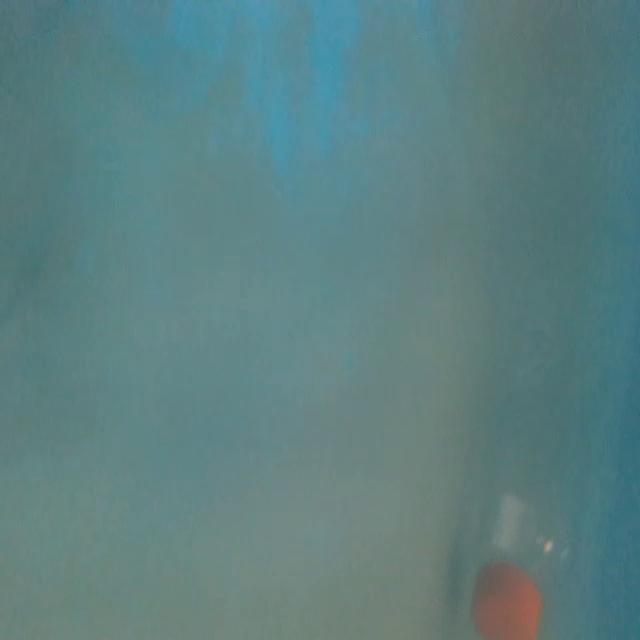plastic bottle: (473, 308, 592, 640)
